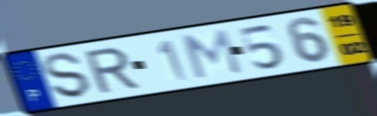1: (157, 38, 188, 82)
5: (237, 21, 286, 71)
6: (284, 15, 331, 65)
M: (180, 28, 245, 81)
R: (82, 45, 142, 96)
S: (42, 51, 94, 100)
